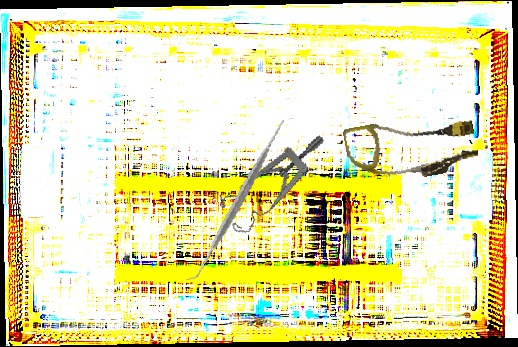Cannula: (342, 105, 481, 191)
Spatula Surgical: (158, 117, 321, 281)
Speculum: (209, 134, 344, 238)
